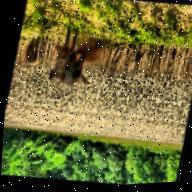boar: (44, 31, 103, 101)
